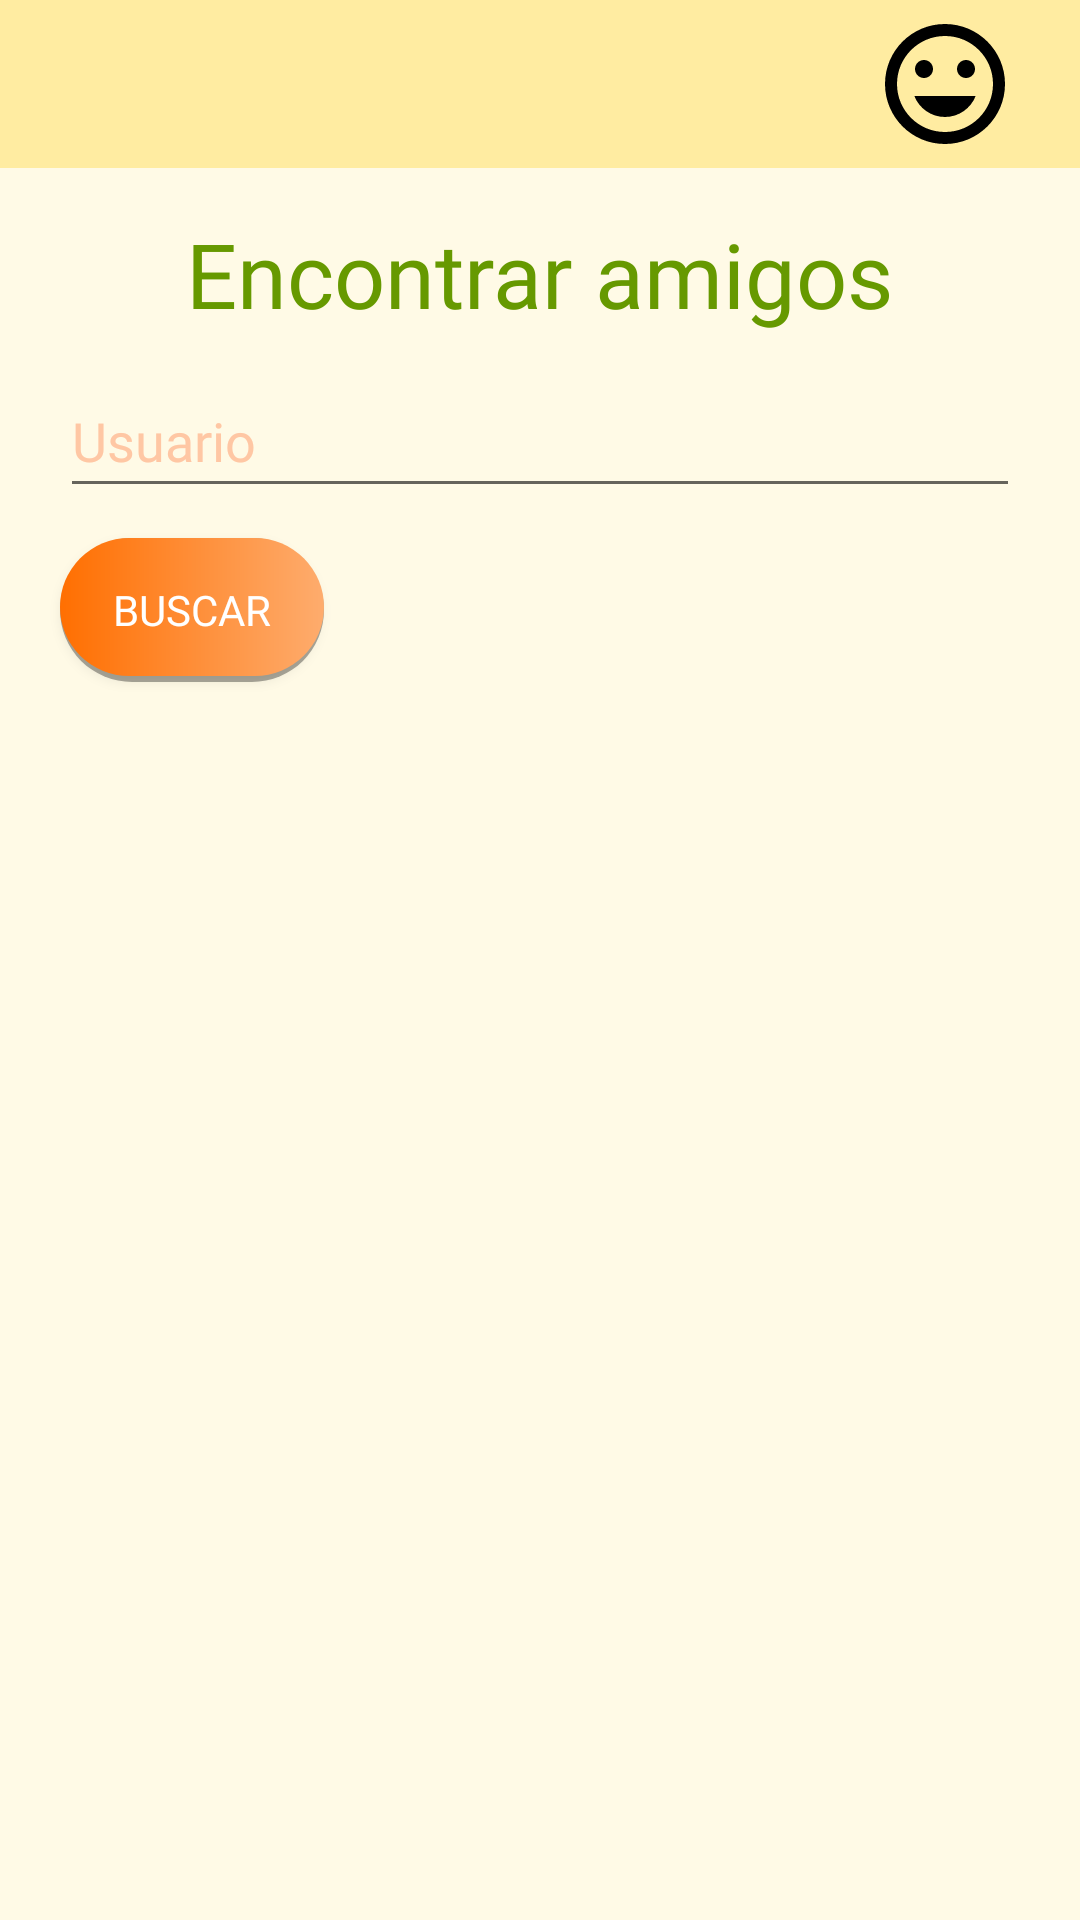

Named icons in this screenshot (1080 x 1920) and their bounding boxes, (x1, y1, x2, y2):
tag faces: (885, 24, 1005, 144)
